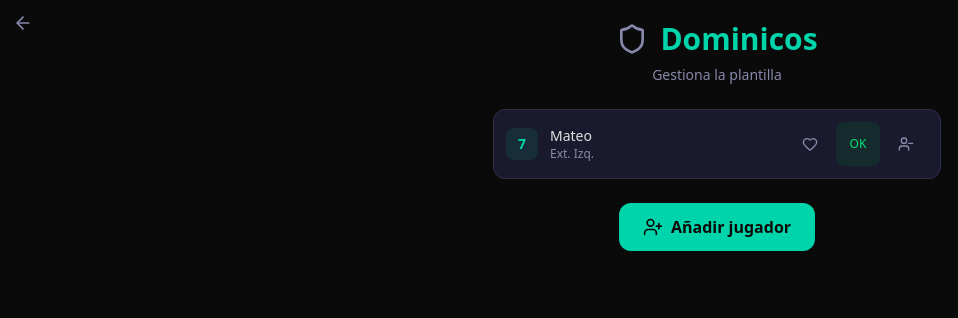
Test case: RosterPage › shows add player button that reveals unassigned pool
Click the button "Añadir jugador" at x=717, y=227, box [619,203,815,251]
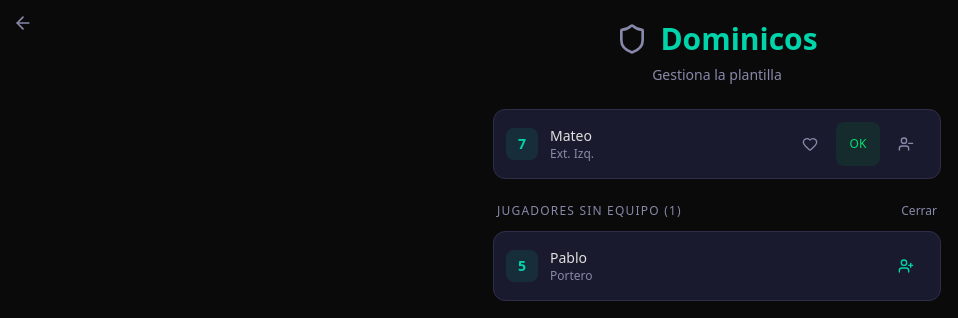
Expected: the text "Jugadores sin equipo (1)" is shown, [497,203,682,219]
Expected: the text "Pablo" is shown, [550,248,587,267]
